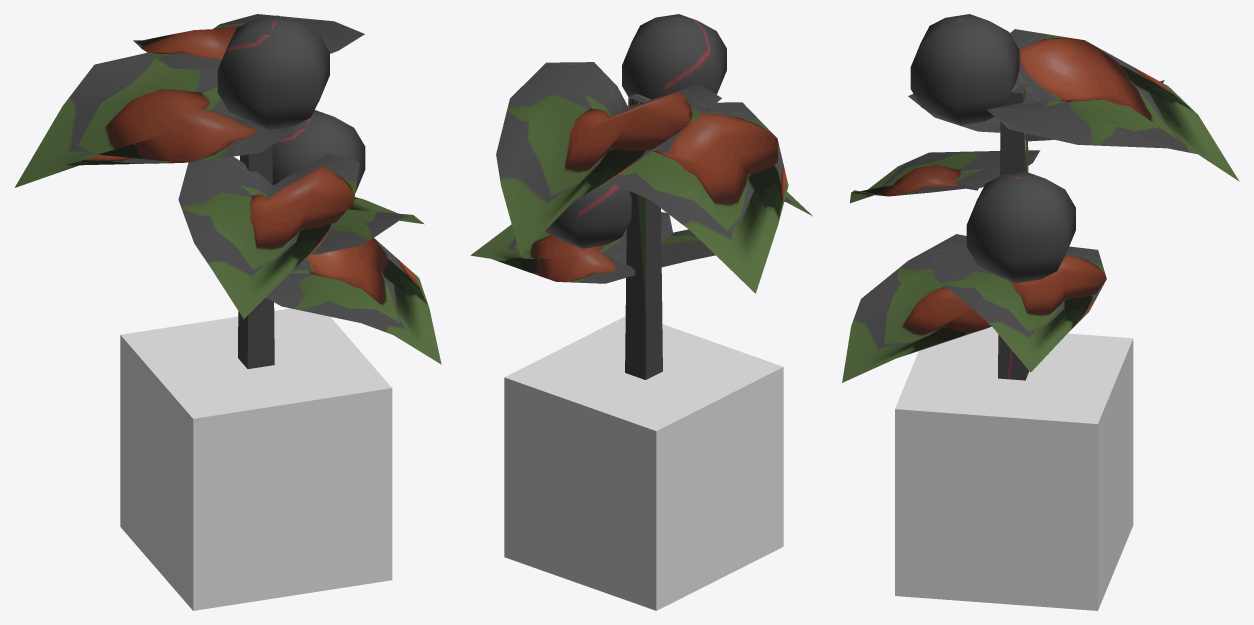
File: plant4.fbx
3 renders of one model, left to right at view 1: azimuth 30°, elevation 25°; view 2: azimuth 150°, elevation 25°; view 3: azimuth 270°, elevation 25°, orthographic. The views are drawn at different scales.
Visible parts, largest first — view 1: plant.004, plant4; view 2: plant4, plant.004; view 3: plant.004, plant4.
Part boxes in pixels (box(x1,y1,x2,y2)): plant.004: box(14, 14, 441, 368); plant4: box(120, 308, 392, 610); plant4: box(504, 316, 783, 610); plant.004: box(470, 14, 812, 379); plant.004: box(842, 14, 1239, 382); plant4: box(895, 327, 1133, 610).
Size of the model in its own units: 79.97 by 118 by 79.15.
